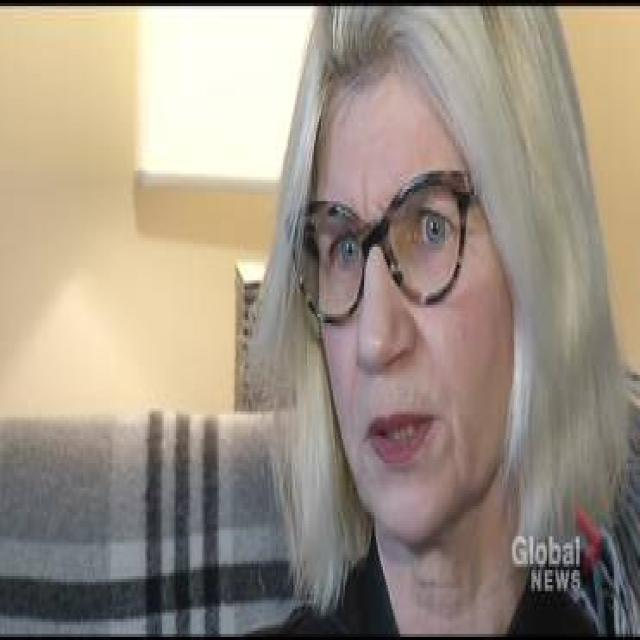human: (247, 11, 598, 640)
